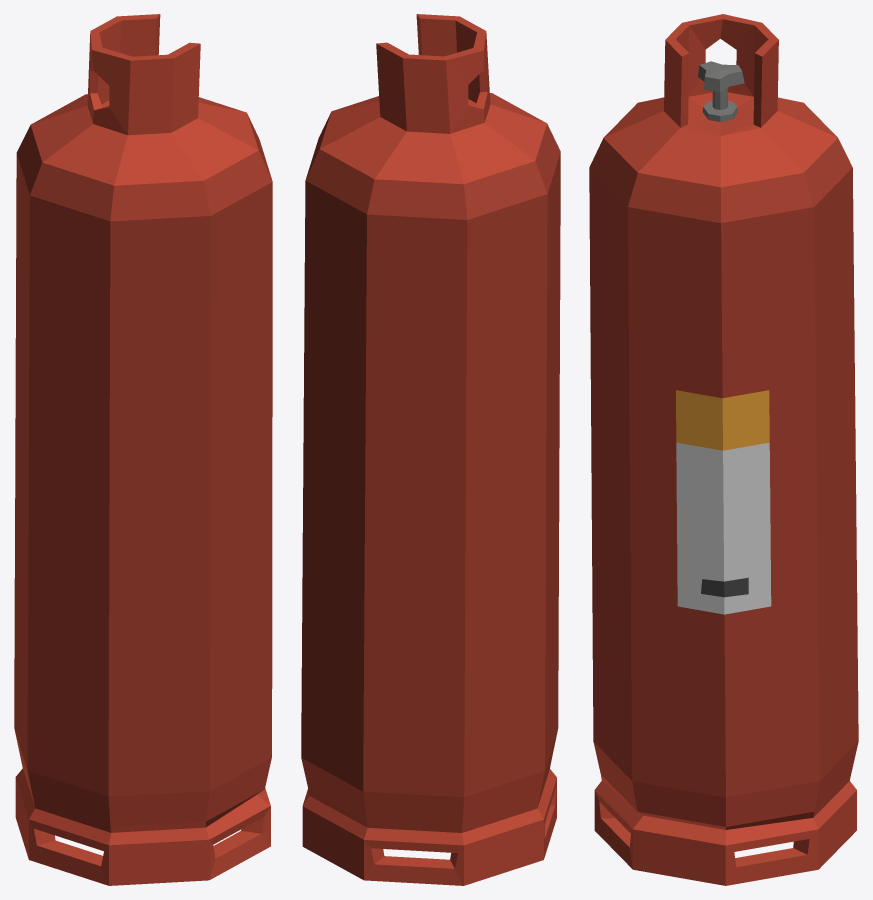
Rendered from SM_Prop_Propane_Tall_02.fbx.
The picture shows the model from 3 angles, left to right: view 1: azimuth 30°, elevation 25°; view 2: azimuth 150°, elevation 25°; view 3: azimuth 270°, elevation 25°; orthographic projection.
Parts seen in each view (by area): view 1: SM_Prop_Propane_Tall_02; view 2: SM_Prop_Propane_Tall_02; view 3: SM_Prop_Propane_Tall_02.
Part boxes in pixels (<box>): SM_Prop_Propane_Tall_02: <box>14,14,272,885</box>; SM_Prop_Propane_Tall_02: <box>301,14,560,885</box>; SM_Prop_Propane_Tall_02: <box>589,14,858,885</box>.
Size of the model in its own units: 28.83 by 94.75 by 29.25.
